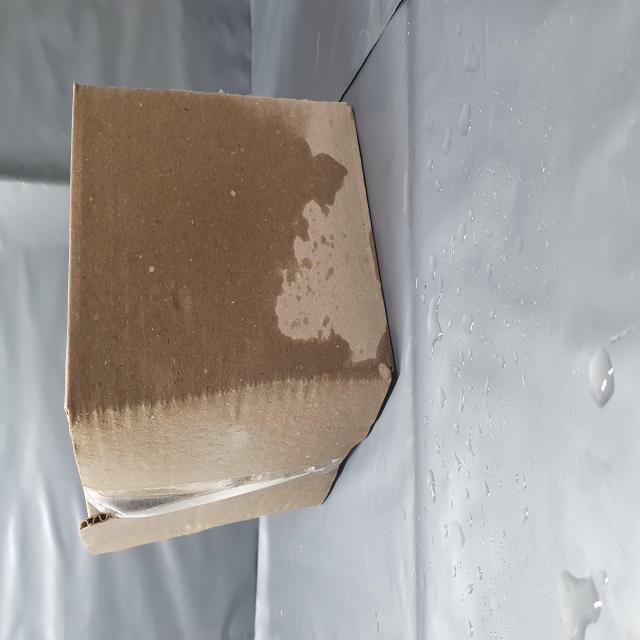wet: (56, 127, 308, 640)
